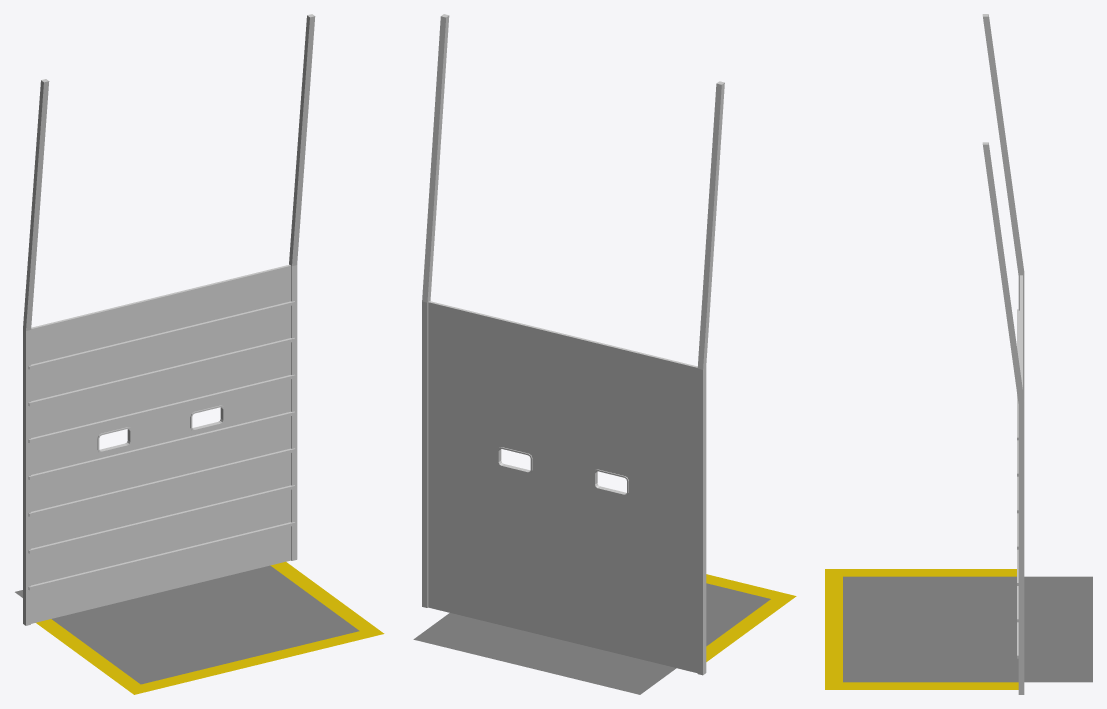
File: Loading Dock.fbx
3 renders of one model, left to right at view 1: azimuth 30°, elevation 25°; view 2: azimuth 150°, elevation 25°; view 3: azimuth 270°, elevation 25°, orthographic. The views are drawn at different scales.
Parts seen in each view (by area): view 1: Main Flap, Door Segment8, Door Segment3, Door Segment6, Door Segment4, Door Segment2, Door Segment7, Door Segment1, Door Segment5, Rails, Outside Anchor; view 2: Door Segment8, Door Segment1, Door Segment6, Door Segment3, Door Segment4, Door Segment2, Door Segment7, Rails, Door Segment5, Inner Flap, Main Flap, Outside Anchor; view 3: Main Flap, Inner Flap, Rails, Outside Anchor, Door Segment8.
Part boxes in pixels (<box>): Main Flap: <box>52,565,359,684</box>; Door Segment8: <box>28,264,295,367</box>; Door Segment3: <box>28,450,295,551</box>; Door Segment6: <box>28,340,295,441</box>; Door Segment4: <box>28,413,295,515</box>; Door Segment2: <box>28,487,295,588</box>; Door Segment7: <box>28,303,295,404</box>; Door Segment1: <box>28,524,295,623</box>; Door Segment5: <box>28,377,295,478</box>; Rails: <box>23,14,315,625</box>; Outside Anchor: <box>36,561,384,694</box>; Door Segment8: <box>428,301,697,405</box>; Door Segment1: <box>428,569,697,673</box>; Door Segment6: <box>428,378,697,482</box>; Door Segment3: <box>428,493,697,596</box>; Door Segment4: <box>428,455,697,558</box>; Door Segment2: <box>428,531,697,634</box>; Door Segment7: <box>428,340,697,443</box>; Rails: <box>422,14,724,675</box>; Door Segment5: <box>428,417,697,520</box>; Inner Flap: <box>413,613,676,694</box>; Main Flap: <box>706,583,770,646</box>; Outside Anchor: <box>706,574,796,661</box>; Main Flap: <box>843,576,1018,682</box>; Inner Flap: <box>1024,576,1092,682</box>; Rails: <box>982,14,1024,694</box>; Outside Anchor: <box>825,569,1018,689</box>; Door Segment8: <box>1017,275,1022,438</box>.
Bounding box in the file's own units: 264 × 518 × 229.
